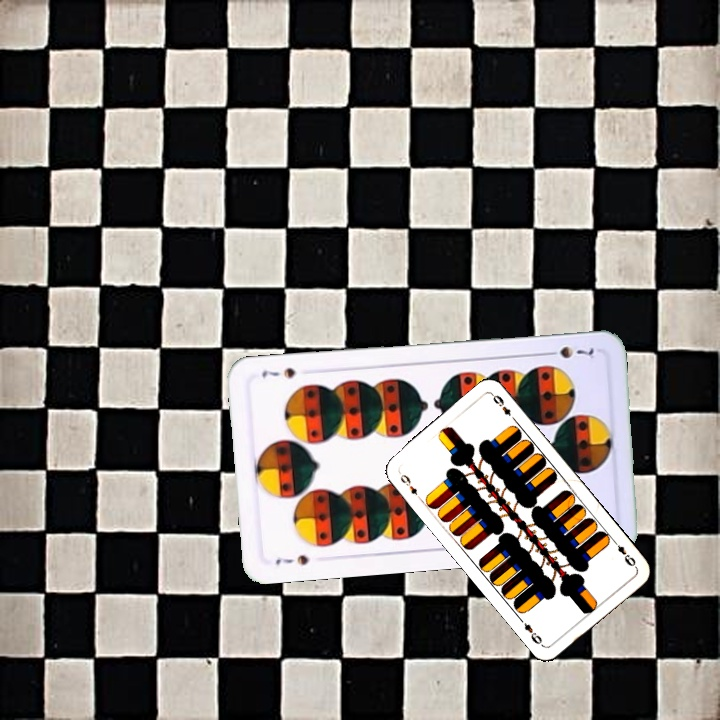E9: (609, 536, 638, 569), (395, 468, 420, 498)
S7: (540, 342, 597, 361), (271, 550, 312, 568)
